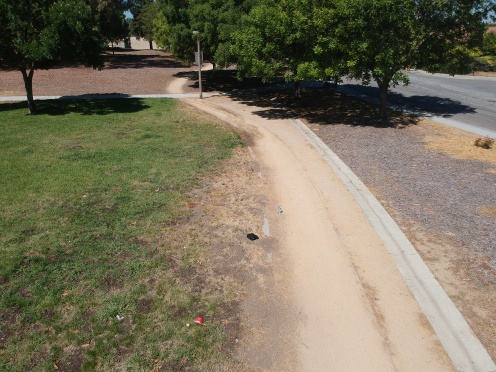bottle: (273, 201, 286, 217)
